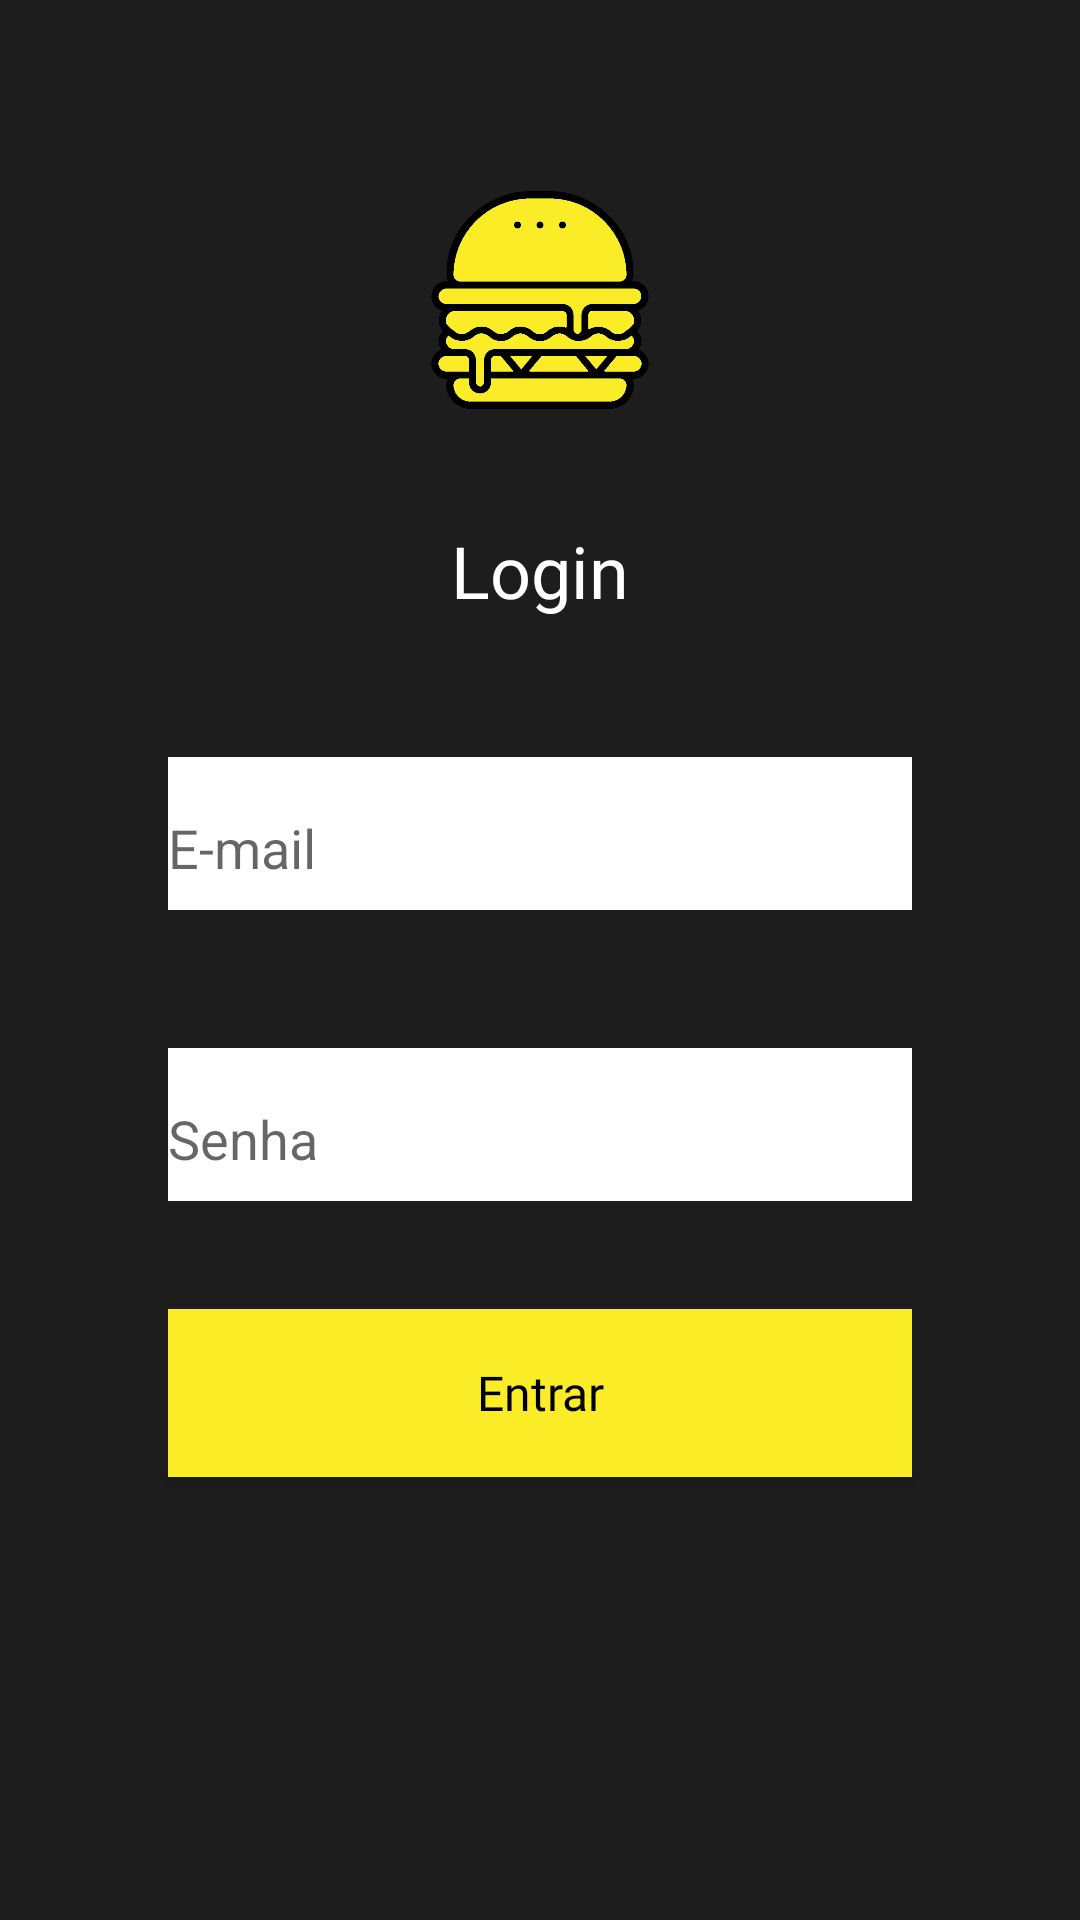

Point at icon controls on the screen. Image size 1080px×1920px, points as (x,y).
hamburguer: (540,300)
